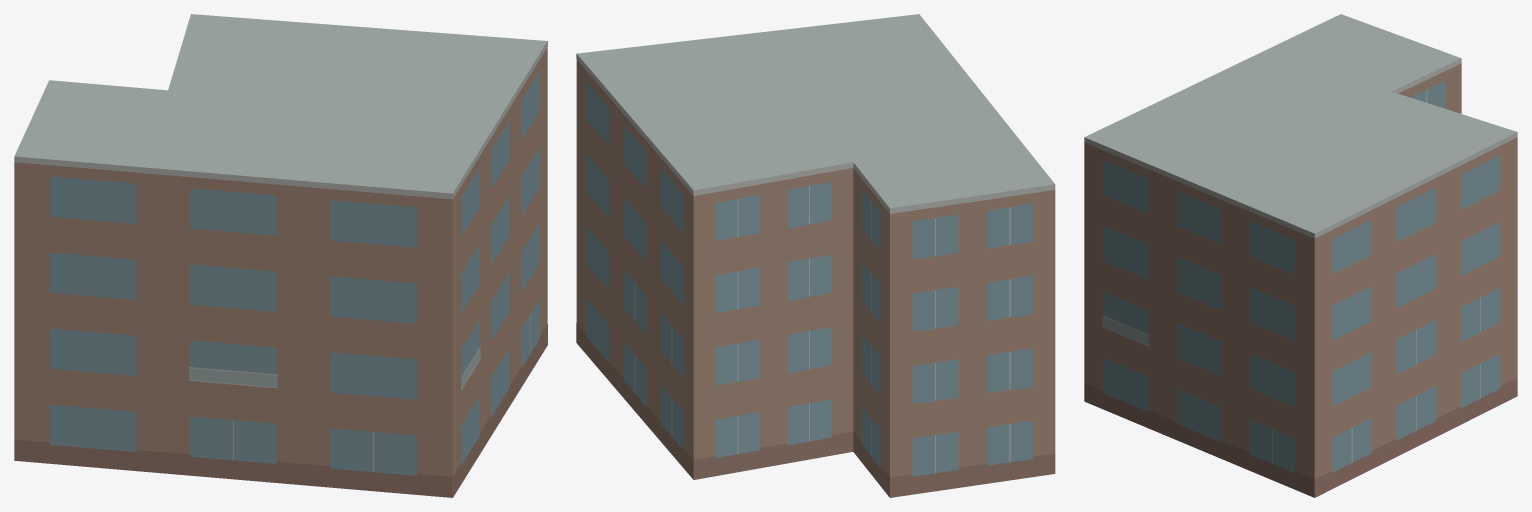
Rendered from survey-upis-32629643.glb.
The picture shows the model from 3 angles, left to right: view 1: azimuth 30°, elevation 25°; view 2: azimuth 150°, elevation 25°; view 3: azimuth 270°, elevation 25°; orthographic projection. The views are drawn at different scales.
Visible parts, largest first — view 1: survey-upis-32629643.tmp; view 2: survey-upis-32629643.tmp; view 3: survey-upis-32629643.tmp.
Boxes of the visible parts, left/top/right/bottom form: survey-upis-32629643.tmp: left=14, top=14, right=547, bottom=497; survey-upis-32629643.tmp: left=576, top=14, right=1055, bottom=497; survey-upis-32629643.tmp: left=1084, top=14, right=1517, bottom=497.
Size of the model in its own units: 22.83 by 12.8 by 19.04.
